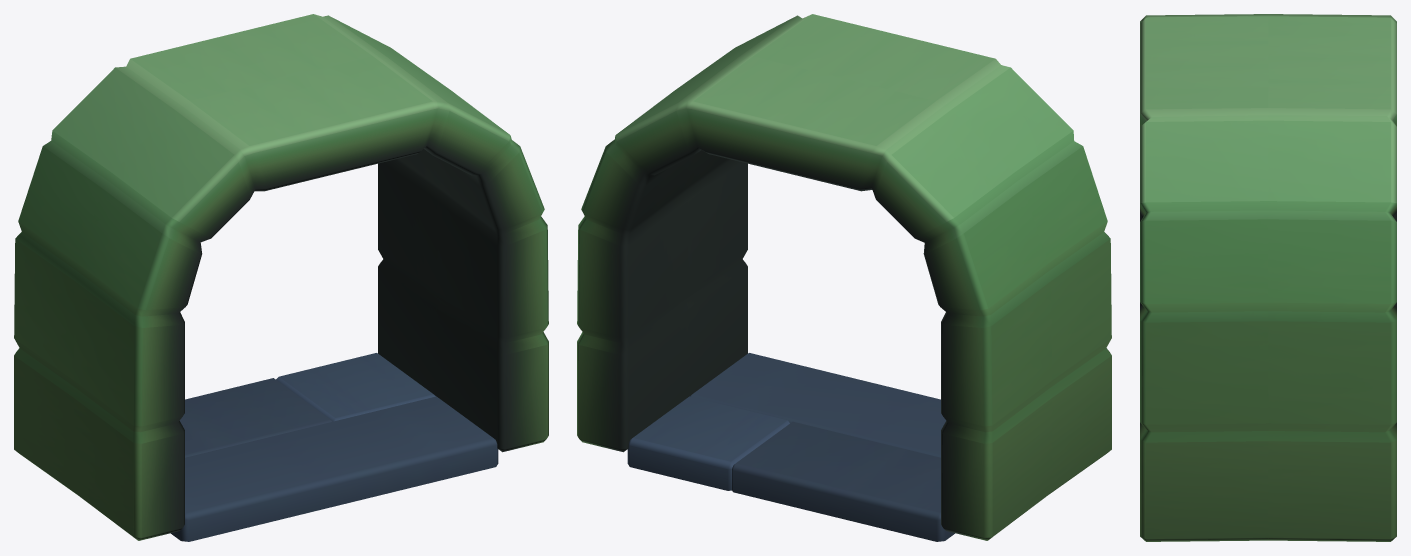
Rendered from doorway_entrance_dark_archway.fbx.
3 views of the same model, side by side, from view 1: azimuth 30°, elevation 25°; view 2: azimuth 150°, elevation 25°; view 3: azimuth 270°, elevation 25° (orthographic). The views are drawn at different scales.
Parts seen in each view (by area): view 1: doorway_entrance_dark_archway; view 2: doorway_entrance_dark_archway; view 3: doorway_entrance_dark_archway.
Part boxes in pixels (x1,y1,x2,y2): doorway_entrance_dark_archway: [14, 14, 548, 541]; doorway_entrance_dark_archway: [577, 14, 1111, 541]; doorway_entrance_dark_archway: [1140, 14, 1396, 541].
Bounding box in the file's own units: 402 × 353 × 210.
